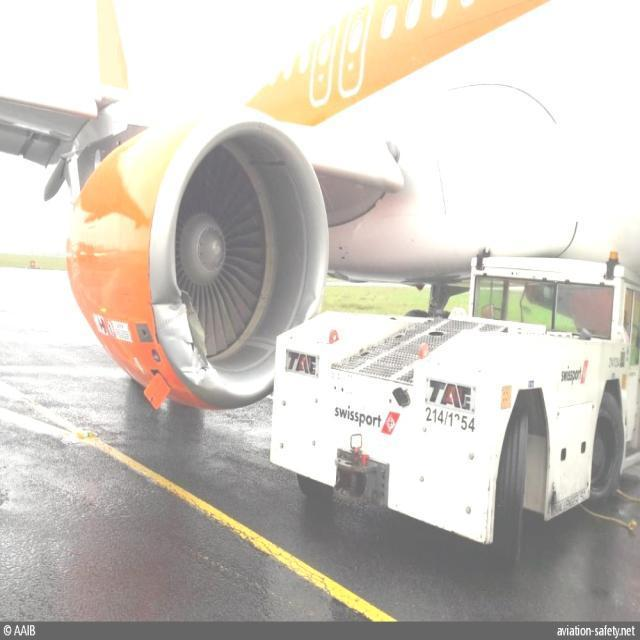crack: (177, 289, 212, 373)
dent: (154, 294, 184, 333), (179, 356, 207, 387), (305, 287, 326, 321)
